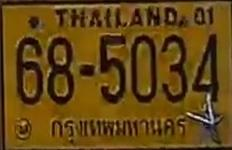0: (130, 34, 157, 102)
3: (161, 34, 187, 102)
4: (192, 33, 219, 103)
5: (98, 34, 126, 102)
6: (15, 36, 42, 103)
8: (47, 36, 73, 104)
BKK: (45, 112, 191, 146)
